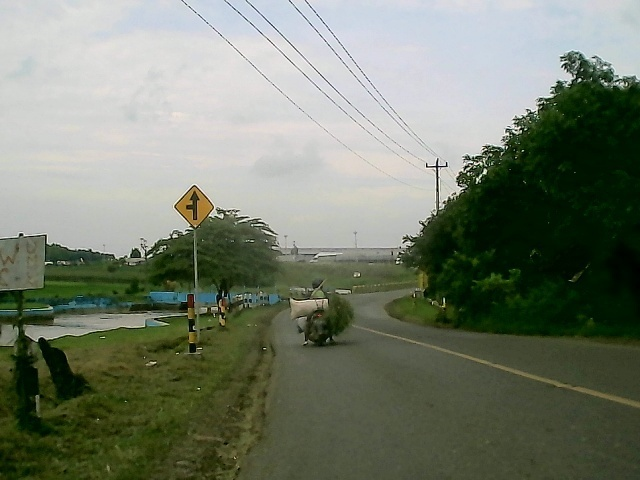Simpang kiri dengan prioritas: (173, 182, 216, 231)
